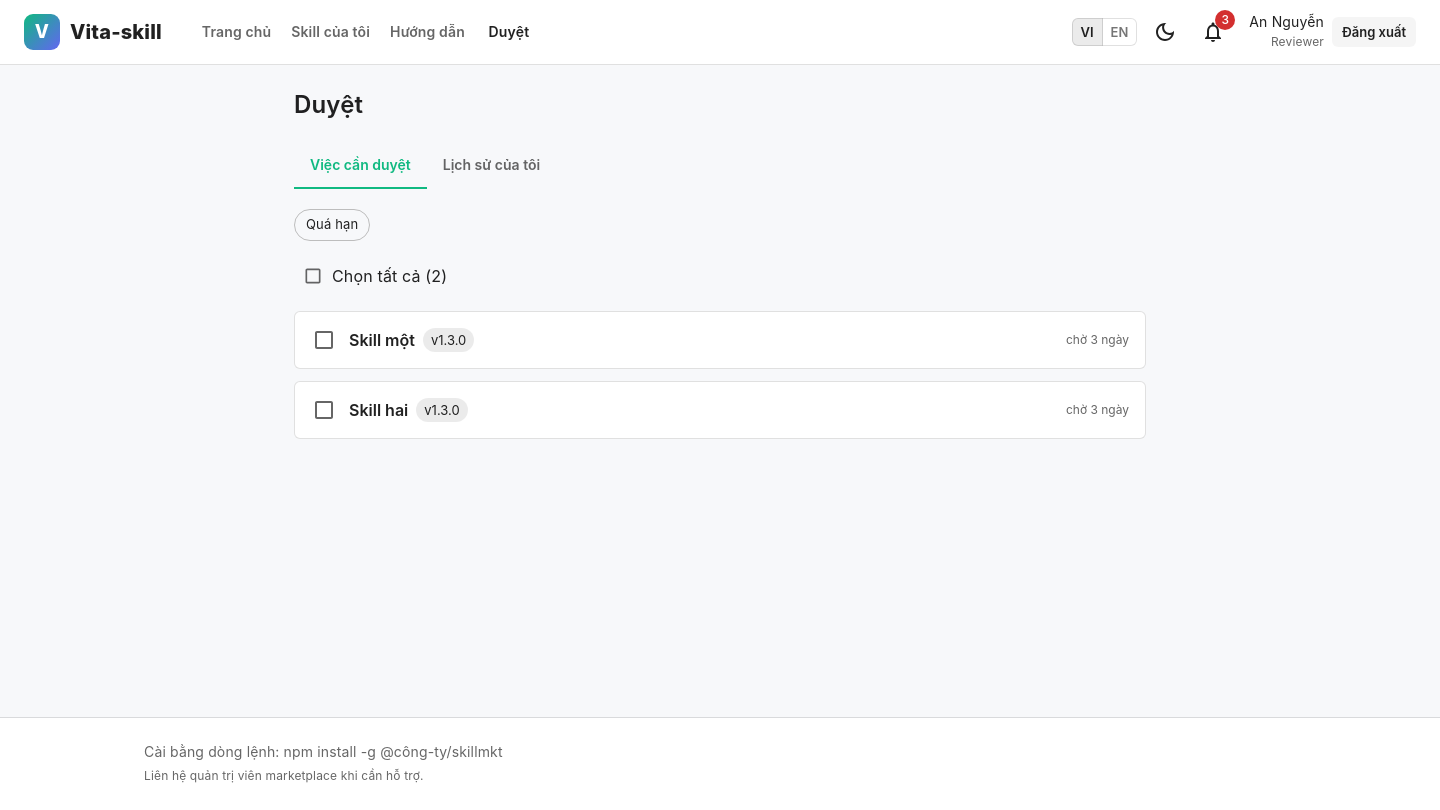
ReviewQueuePage › tick nhiều skill rồi duyệt nhanh, gọi decision cho từng skill
The image size is (1440, 810).
Click the checkbox named "Chọn Skill một" at (324, 340), box [312,328,336,352]
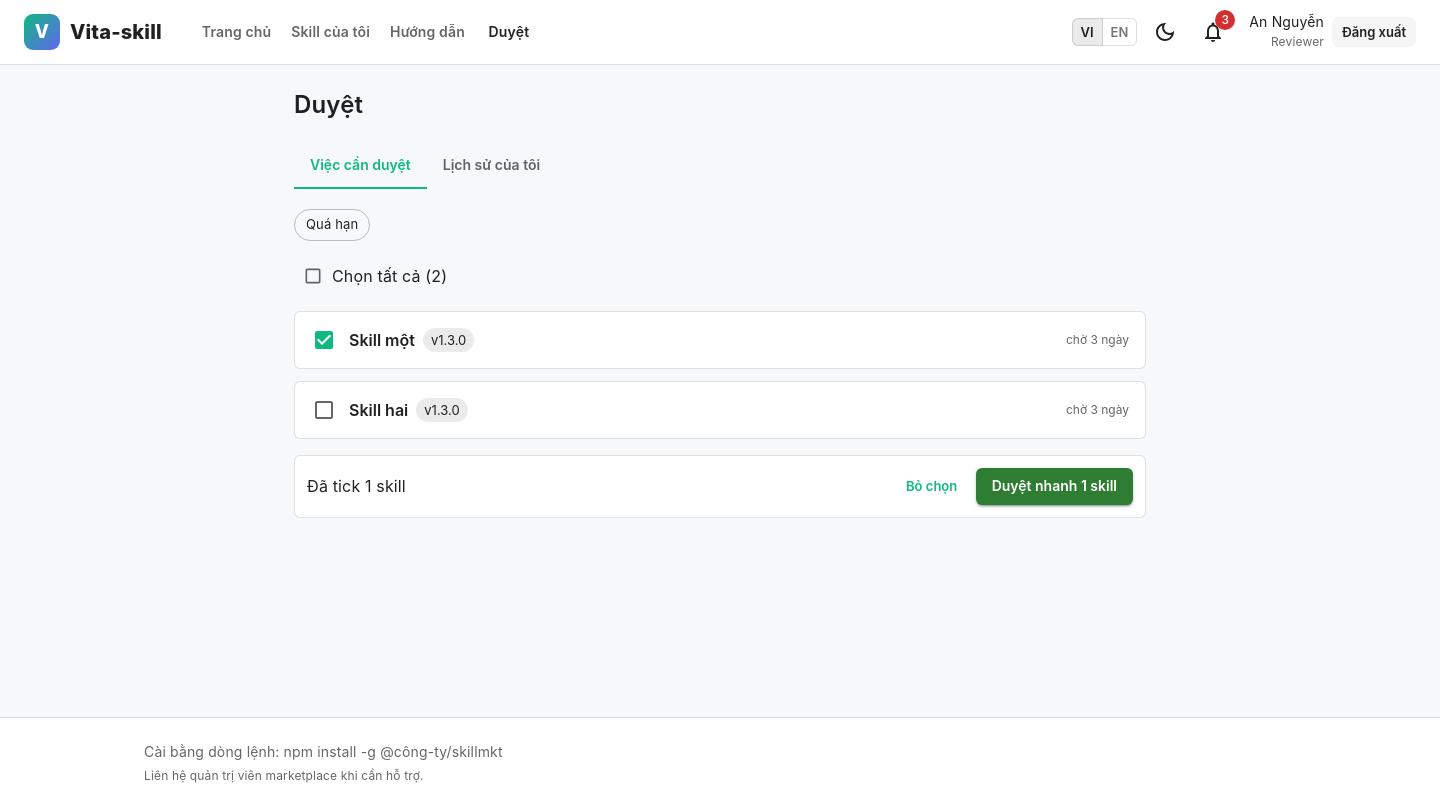
Click the checkbox named "Chọn Skill hai" at (324, 410), box [312,398,336,422]
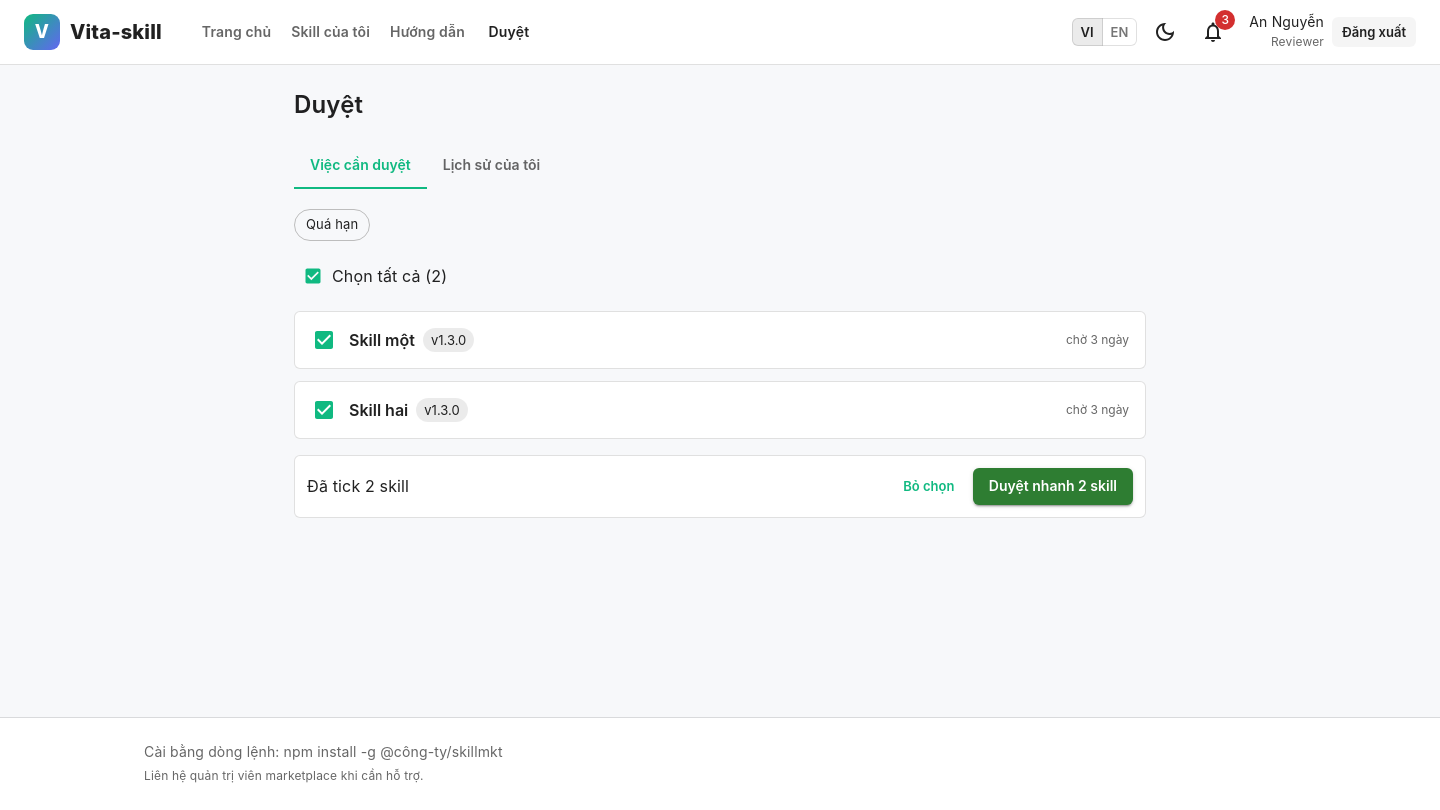
Click the button "Duyệt nhanh 2 skill" at (1053, 486), box [973,468,1133,504]
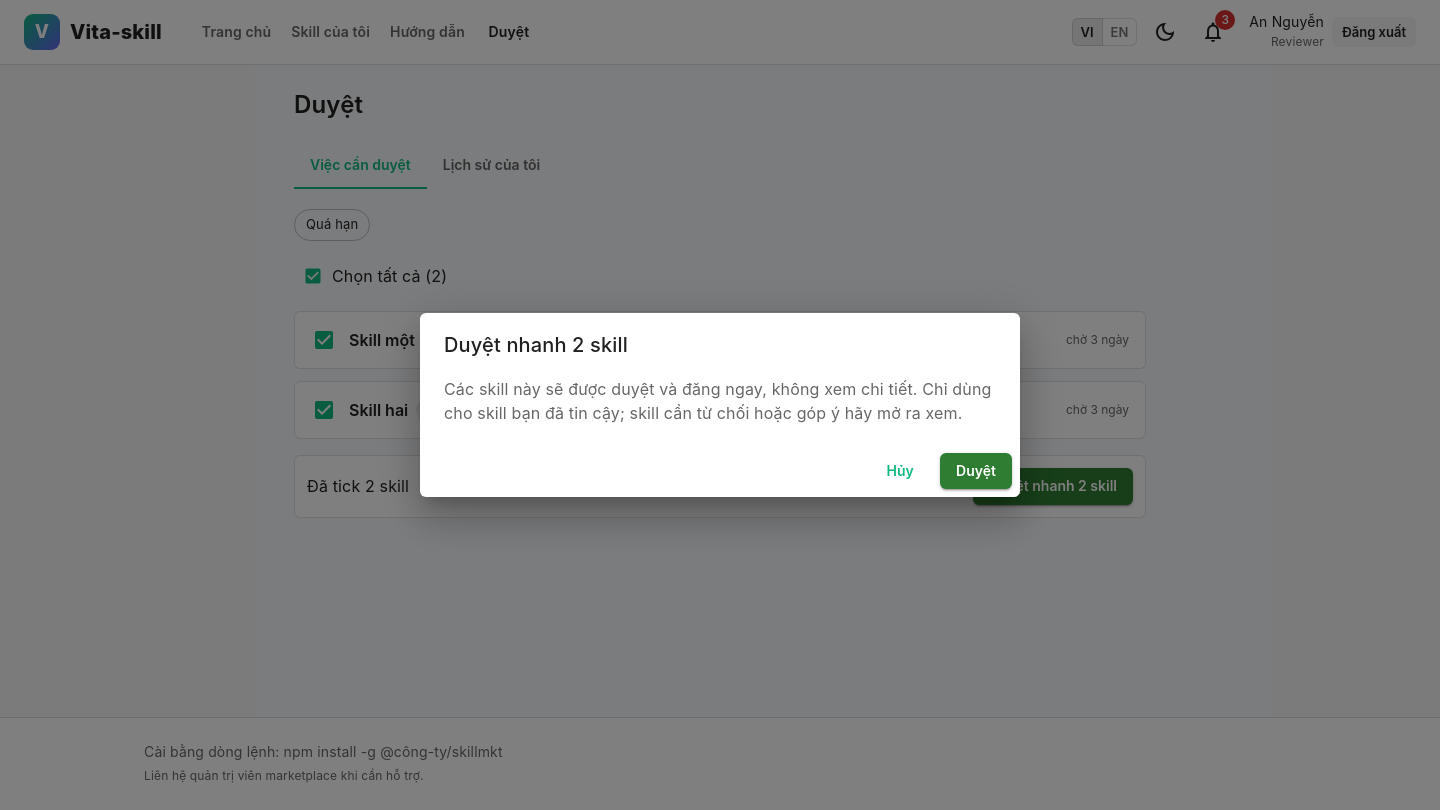
Click the button "Duyệt" at (976, 471), box [940,453,1012,489]
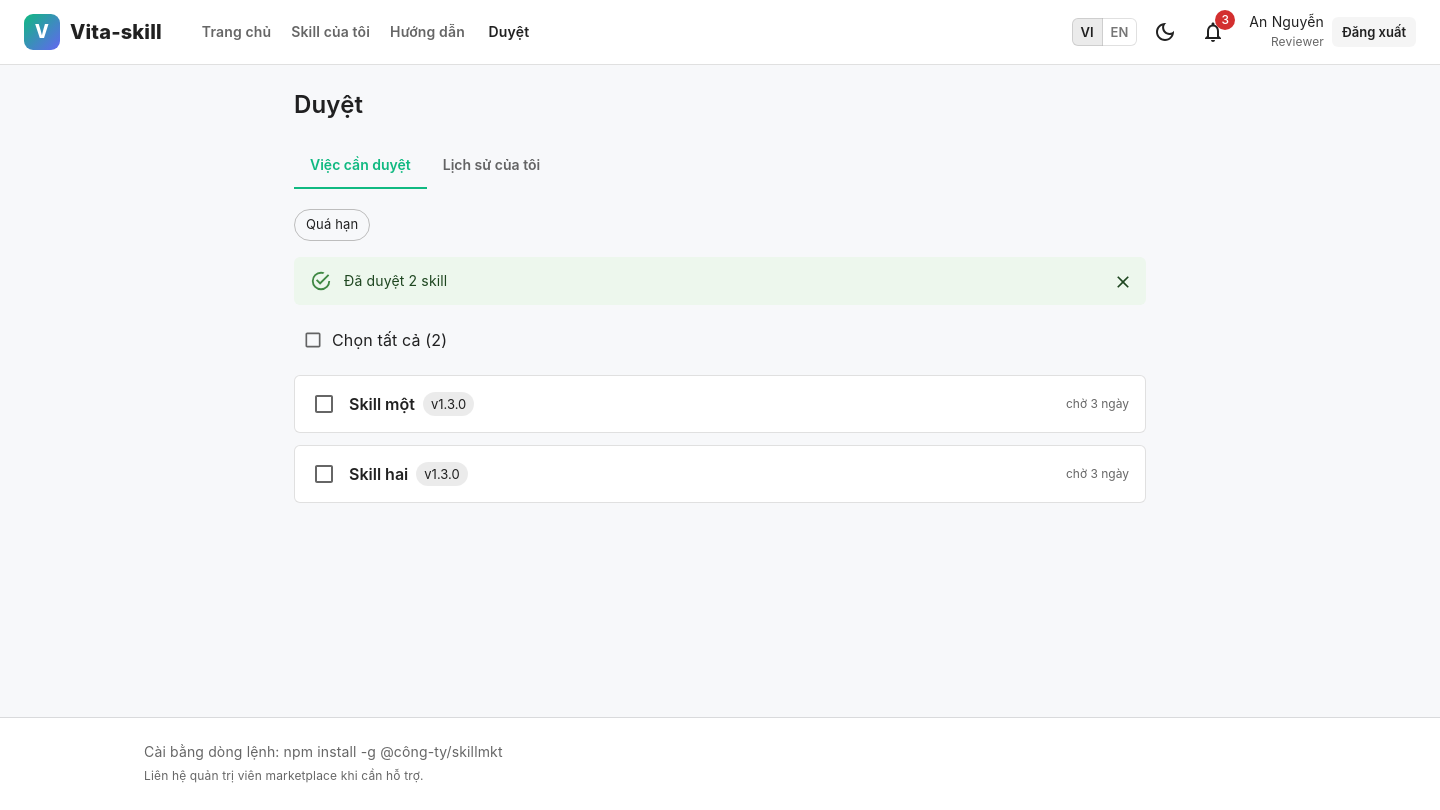
Expected: the text "Đã duyệt 2 skill" is shown, [344,272,447,289]
